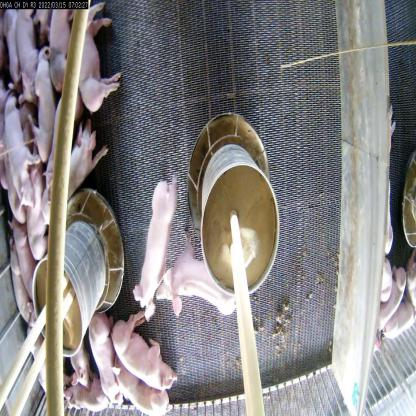Pig: (156, 239, 244, 334), (134, 174, 176, 323), (72, 0, 124, 114), (112, 316, 180, 392), (56, 118, 112, 208), (5, 94, 38, 212), (90, 308, 126, 408), (9, 207, 39, 304), (33, 51, 58, 155)
